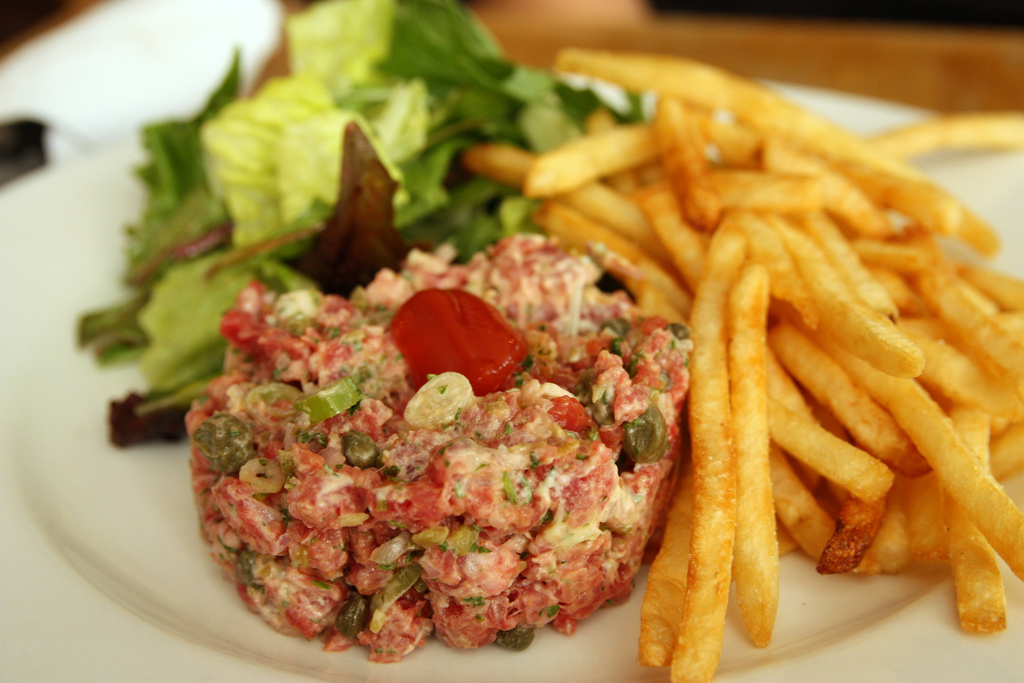chopped lettuce: (286, 18, 493, 159)
